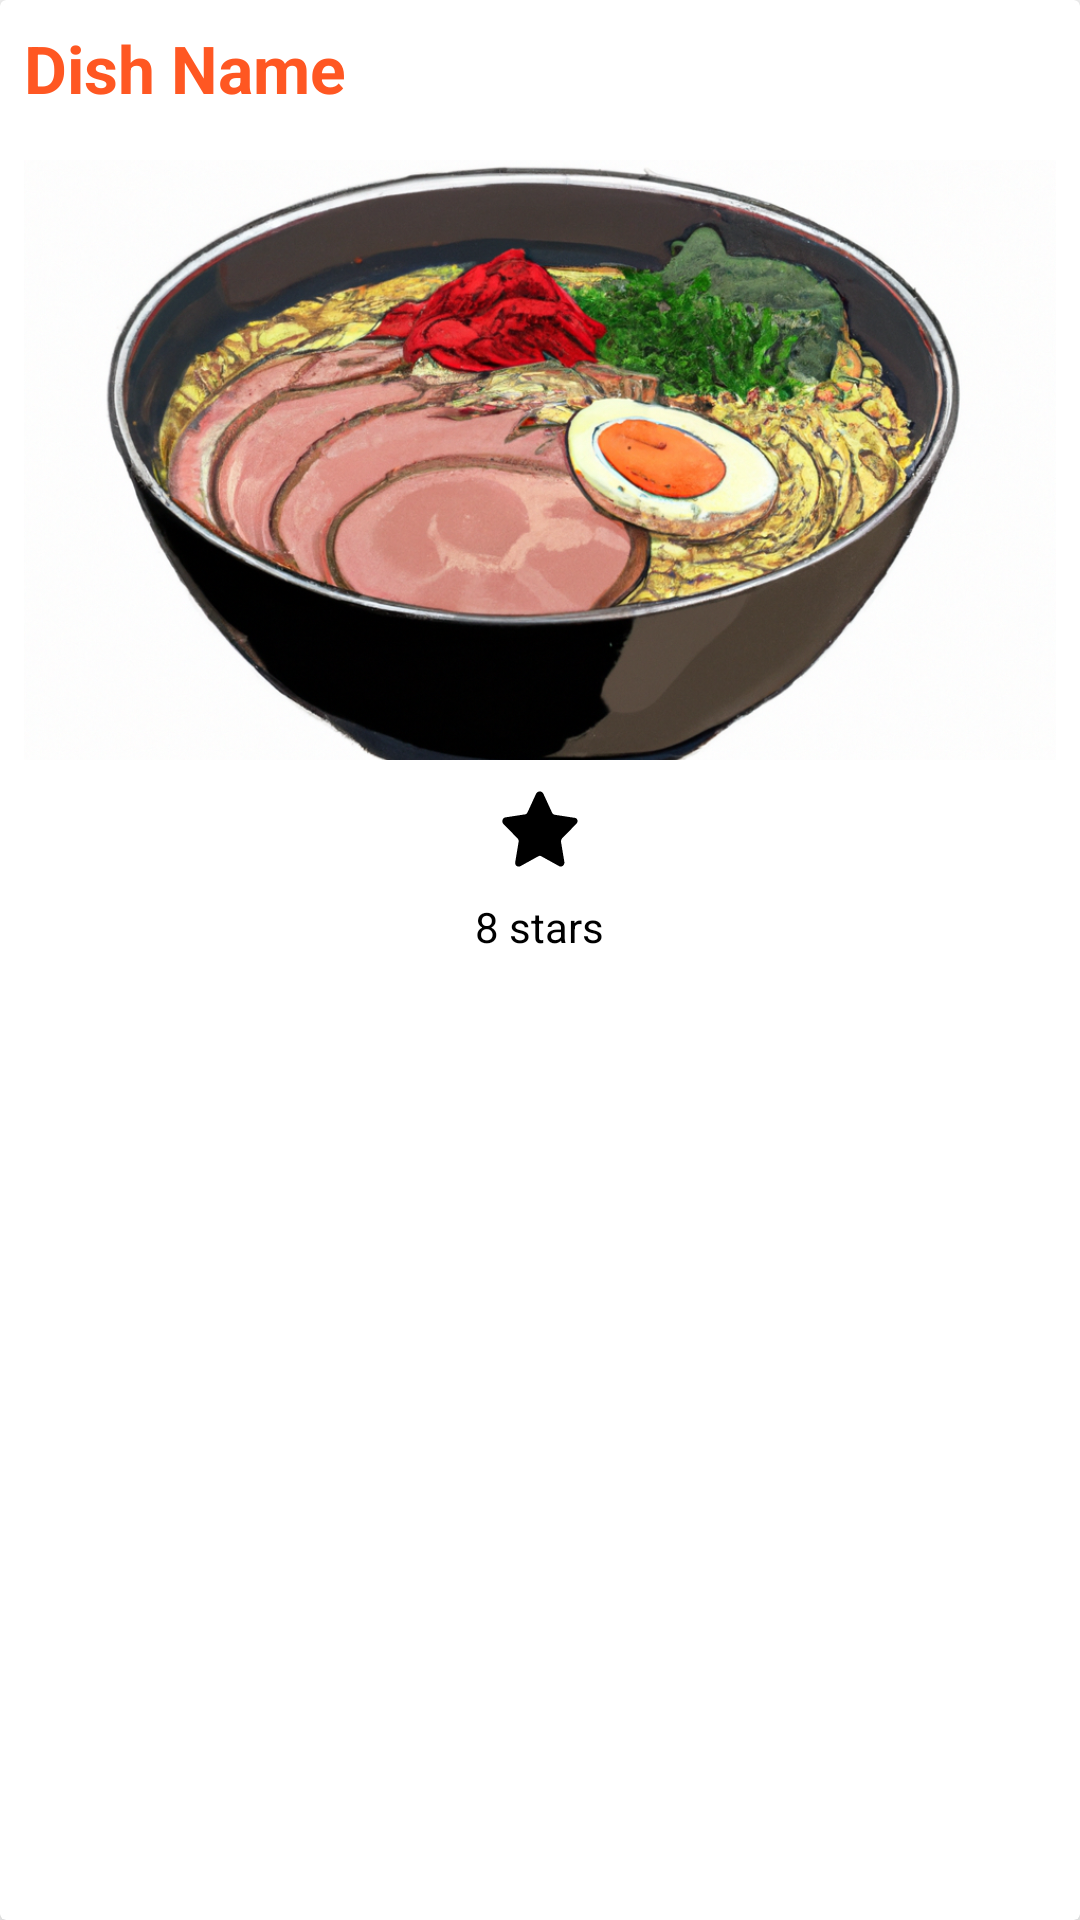

Icon click points for this 1080 x 1920 phone screenshot, format (x=x, y=y):
rating: (x=540, y=829)
